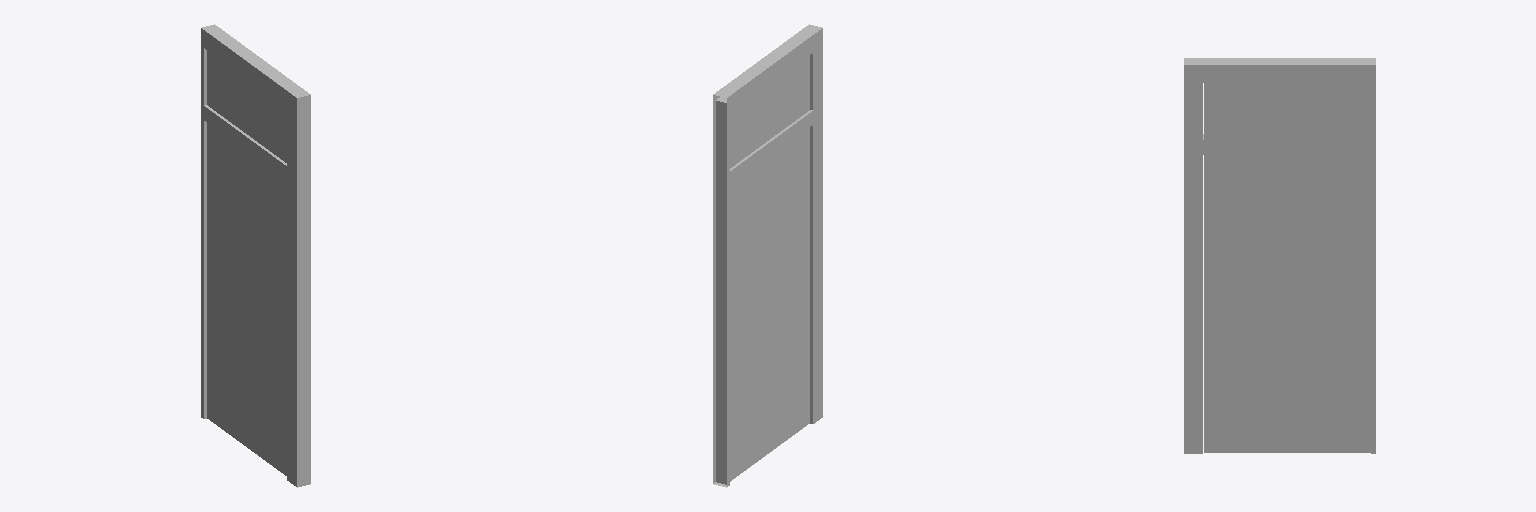
Rendered from puerta_izquierda.obj.
The picture shows the model from 3 angles: view 1: azimuth 30°, elevation 25°; view 2: azimuth 150°, elevation 25°; view 3: azimuth 270°, elevation 25°; orthographic projection.
Parts seen in each view (by area): view 1: polySurface1227; view 2: polySurface1227; view 3: polySurface1227.
Part boxes in pixels (x1,y1,x2,y2): polySurface1227: (201, 24, 310, 487); polySurface1227: (713, 24, 822, 487); polySurface1227: (1184, 58, 1375, 453).
Size of the model in its own units: 0.3407 by 9.09 by 4.07.